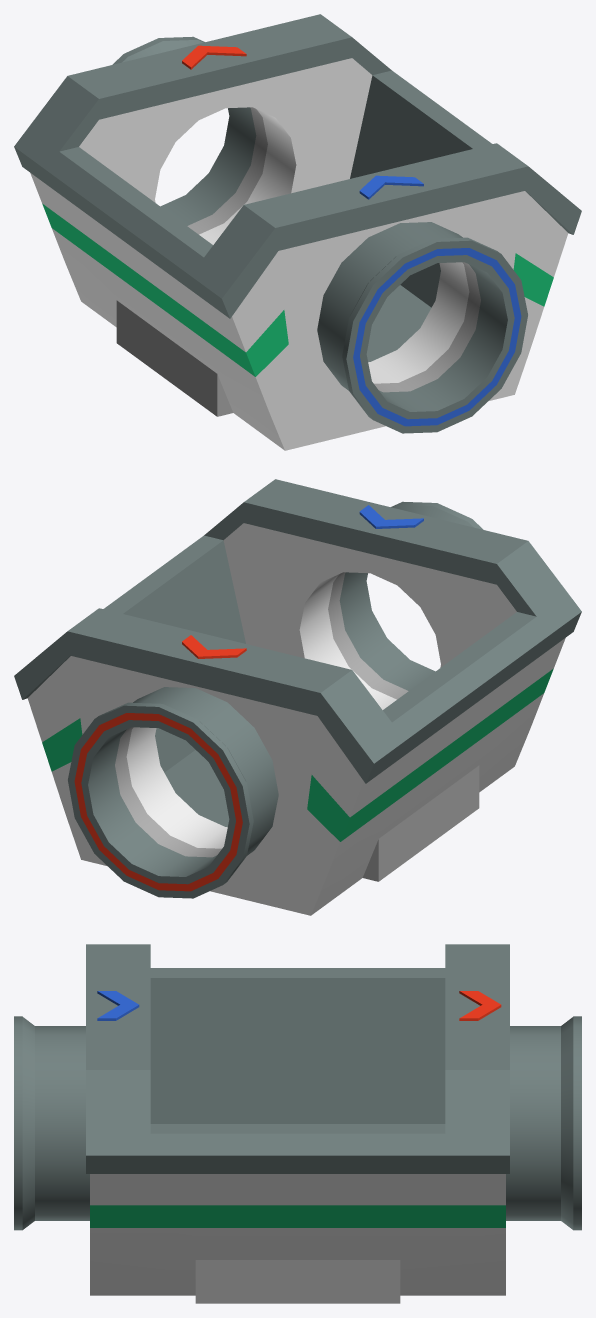
The model's file is m_Hopper.fbx.
3 views of the same model, one above another, from view 1: azimuth 30°, elevation 25°; view 2: azimuth 150°, elevation 25°; view 3: azimuth 270°, elevation 25° (orthographic).
Visible parts, largest first — view 1: Hopper; view 2: Hopper; view 3: Hopper.
Part boxes in pixels (<box>): Hopper: <box>14,14,581,450</box>; Hopper: <box>14,479,581,915</box>; Hopper: <box>14,944,581,1303</box>.
Size of the model in its own units: 74.63 by 45.45 by 100.
